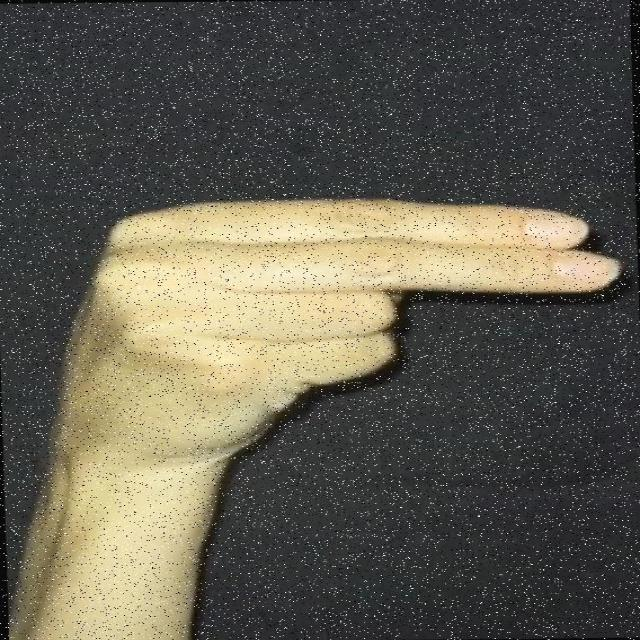H: (37, 192, 636, 468)
